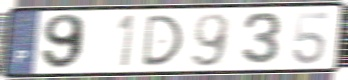1: (115, 13, 137, 70)
3: (240, 11, 285, 67)
5: (291, 10, 331, 65)
9: (41, 12, 91, 73), (188, 11, 236, 68)
D: (140, 13, 186, 68)
